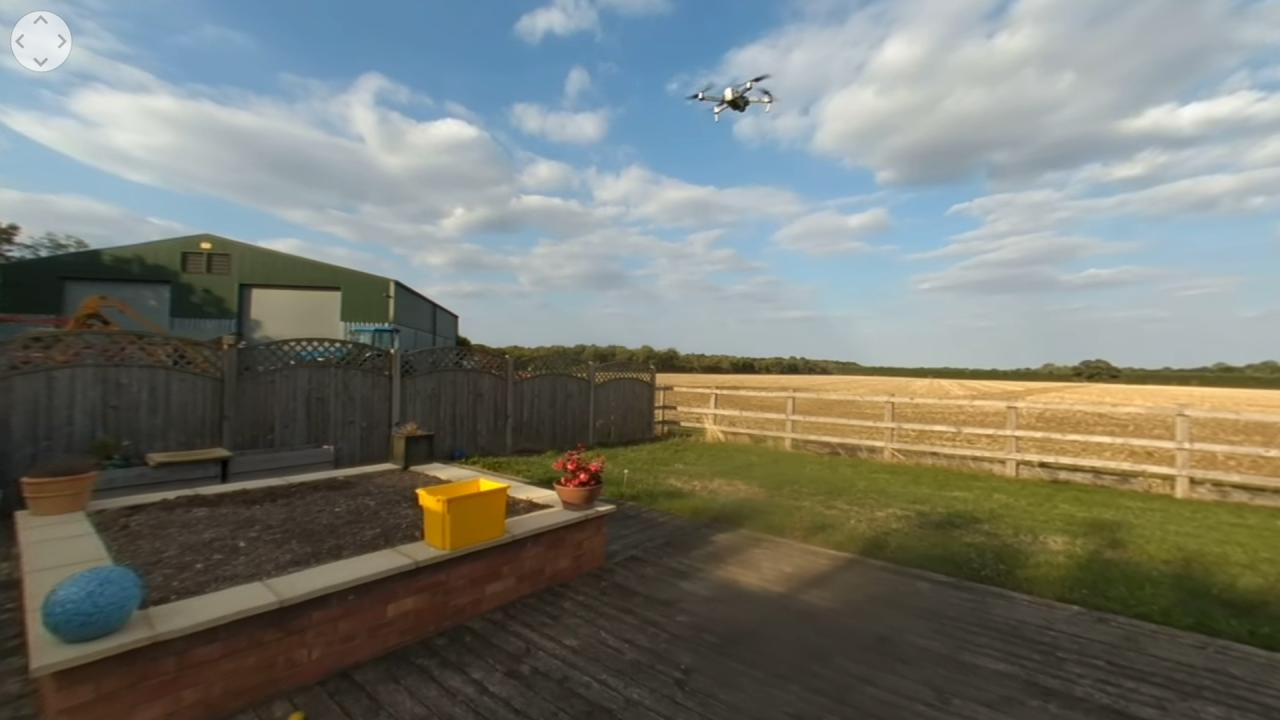Drone: (674, 65, 790, 132)
